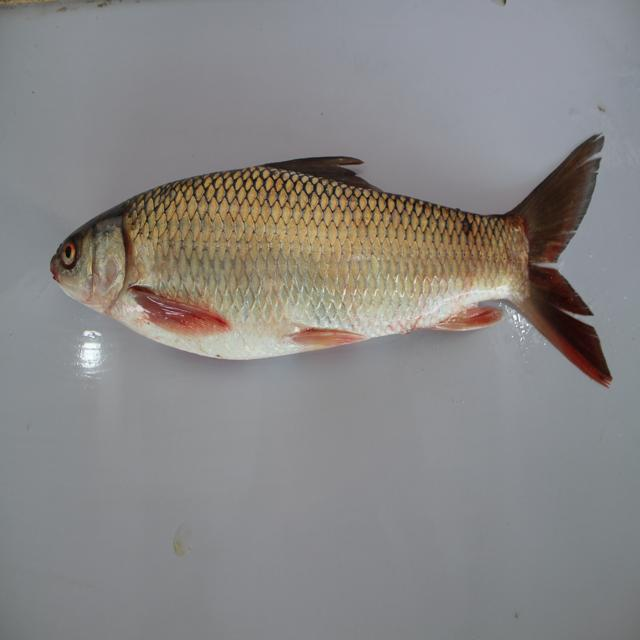Mori: (45, 135, 633, 398)
